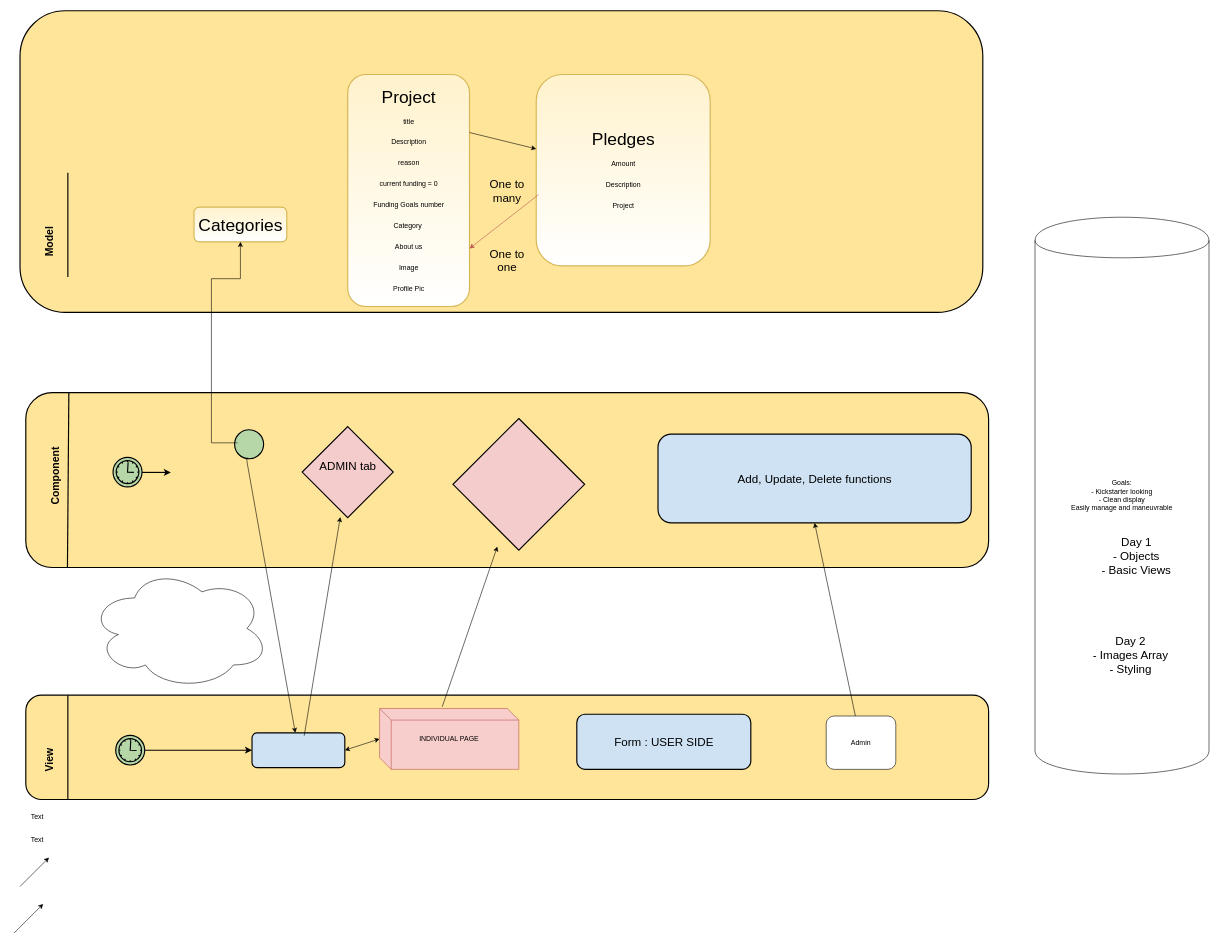
Some shapes in this 1219 by 948 pixel diagram are drawn without their labels. The shapes that lost their labels are listed below. From the top down, each one's box as (x1, y1, x2, y2) in pixels, then its label:
(234, 429, 264, 459): Pipe
(431, 418, 606, 550): FUND button Packages ADMIN tab
(89, 567, 269, 689): ICEBOX: Modal windows for each project instead of routing
(251, 732, 345, 768): All Projects
